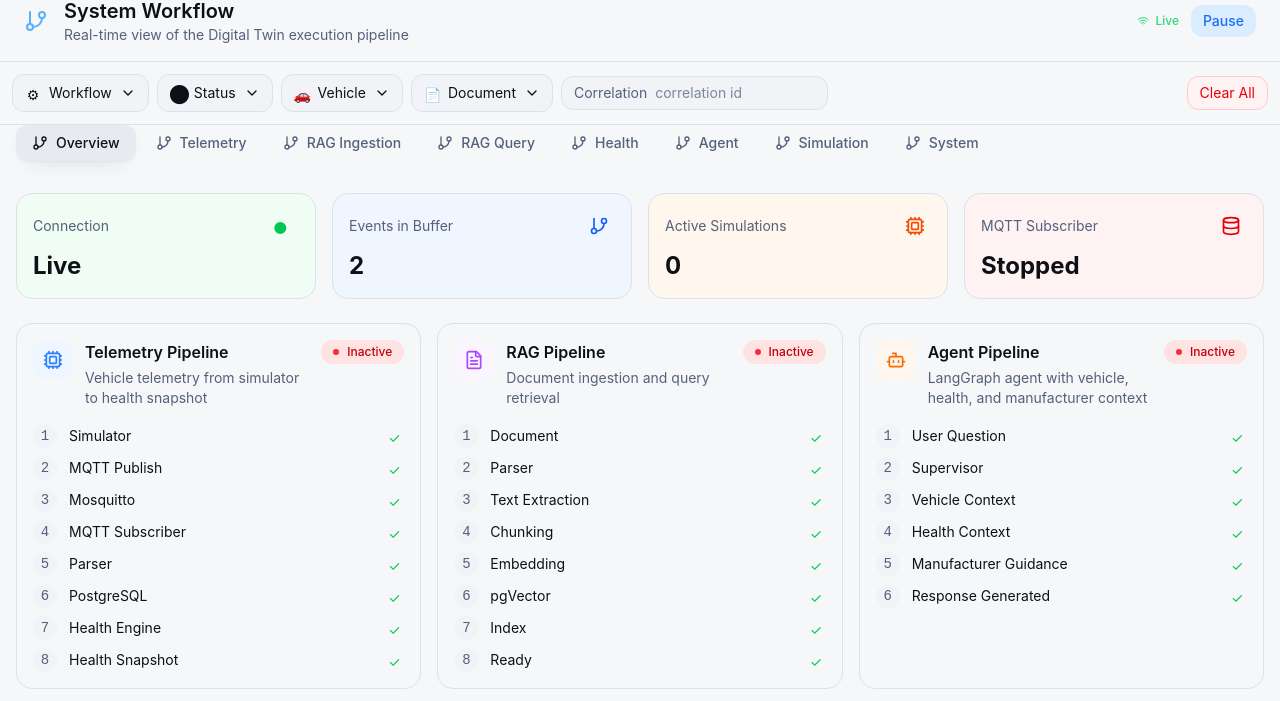
Test case: WorkflowView monitor controls › reports a count that reflects the active tab
Click the tab "RAG Query": (486, 143) [421,125,551,161]
(page scrolled)
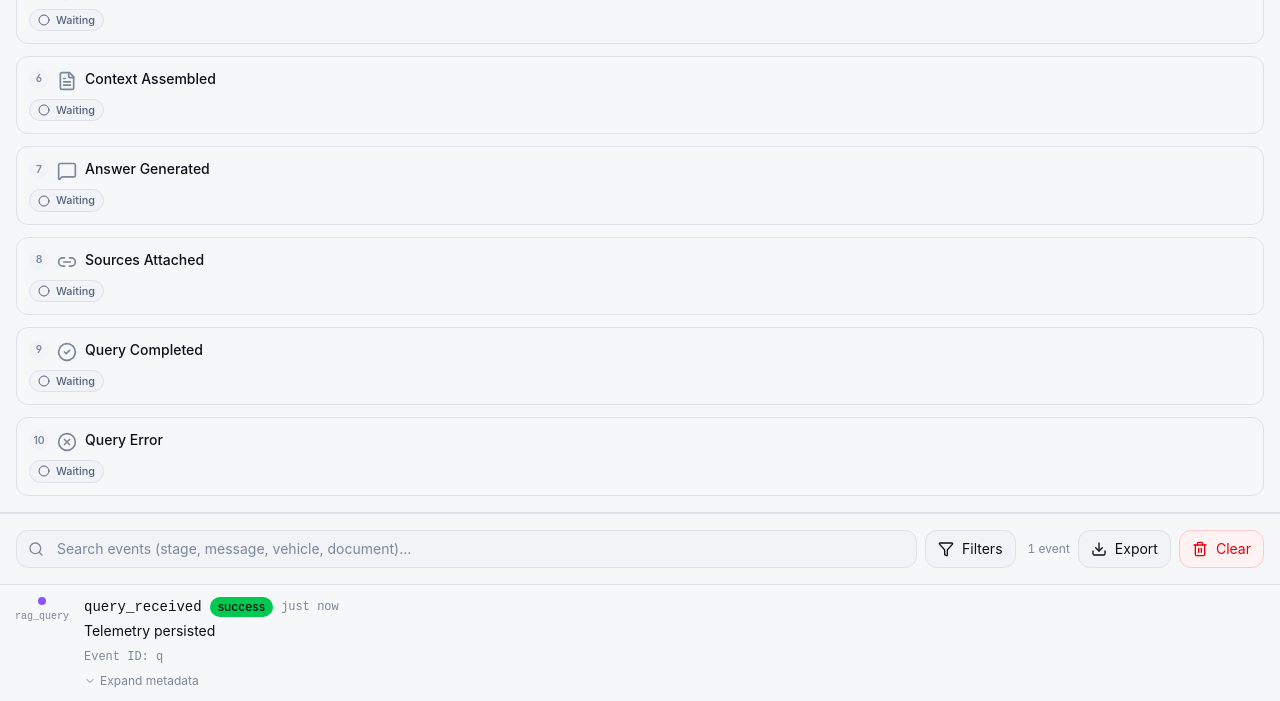
Expected: the text "1 event" is shown, [1028,541,1070,557]
